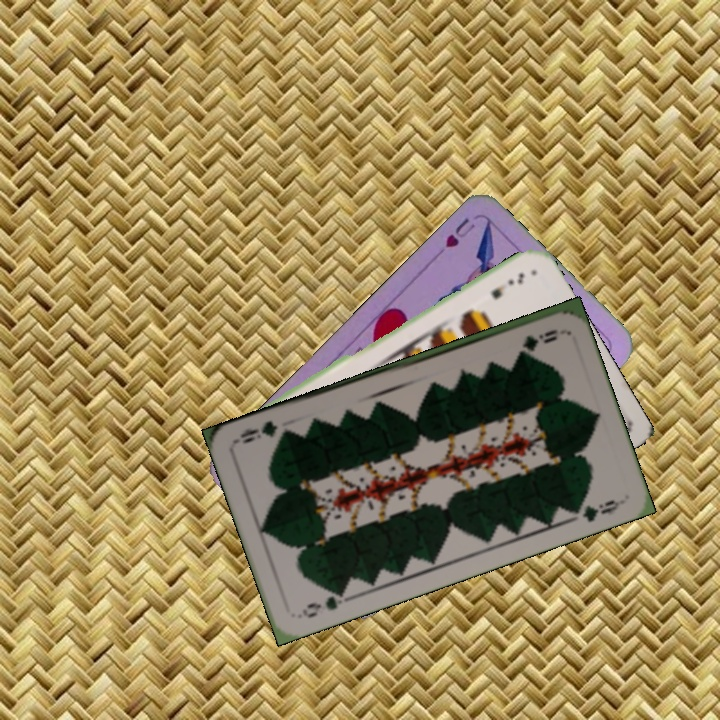E7: (487, 268, 527, 302)
G9: (298, 585, 351, 621), (518, 325, 560, 351)
HU: (432, 213, 478, 259)
